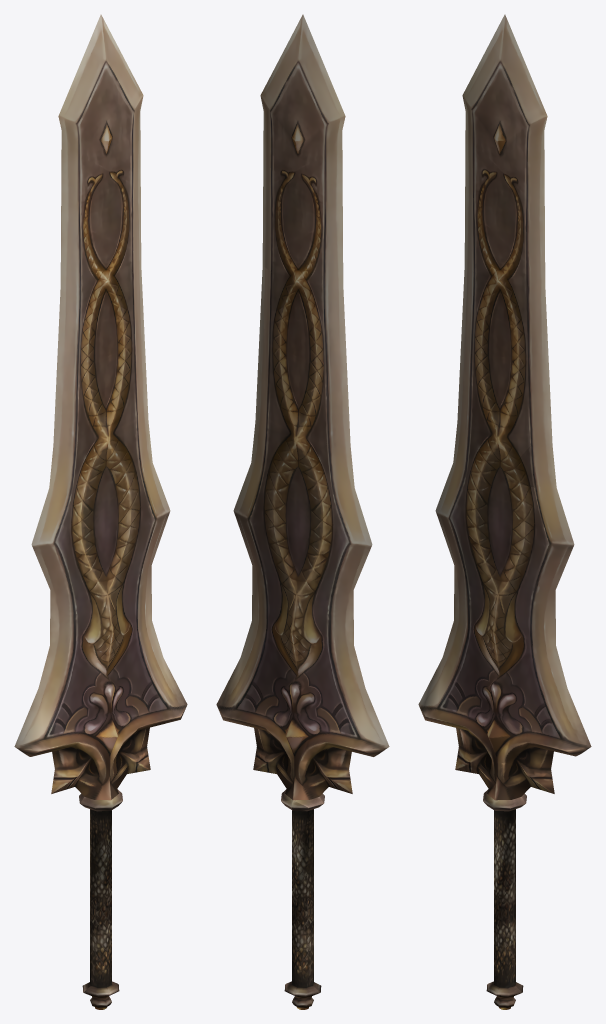
File: Weapon_75.fbx
The picture shows the model from 3 angles, left to right: view 1: azimuth 30°, elevation 25°; view 2: azimuth 150°, elevation 25°; view 3: azimuth 330°, elevation 25°; orthographic projection.
Visible parts, largest first — view 1: Weapon_75; view 2: Weapon_75; view 3: Weapon_75.
Part boxes in pixels (x1,y1,x2,y2): Weapon_75: [14, 14, 187, 1009]; Weapon_75: [216, 14, 389, 1009]; Weapon_75: [418, 14, 591, 1009].
Bounding box in the file's own units: 30.01 × 10.19 × 165.
